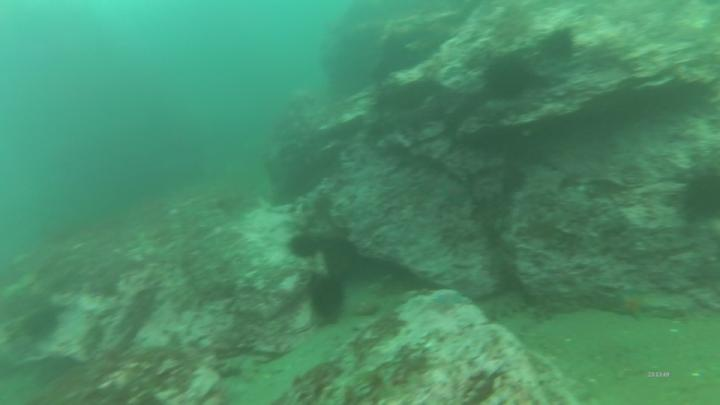echinus: (673, 163, 720, 228), (304, 269, 353, 326), (477, 54, 534, 102), (285, 234, 326, 264)
starfish: (615, 286, 649, 324), (436, 290, 470, 311)
